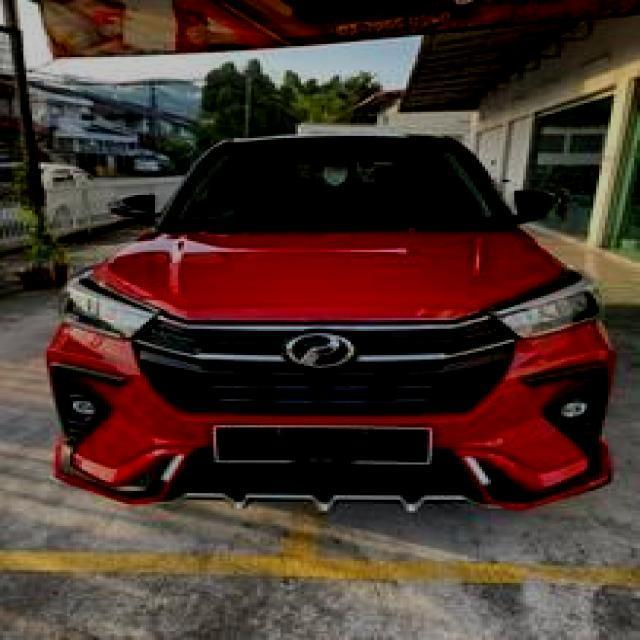PeroduaAtiva: (44, 129, 617, 514)
